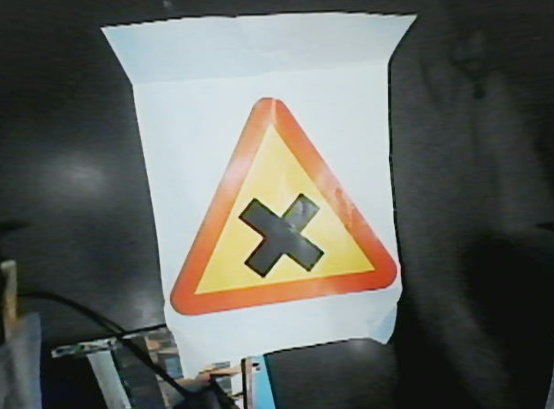junction: (136, 57, 410, 312)
